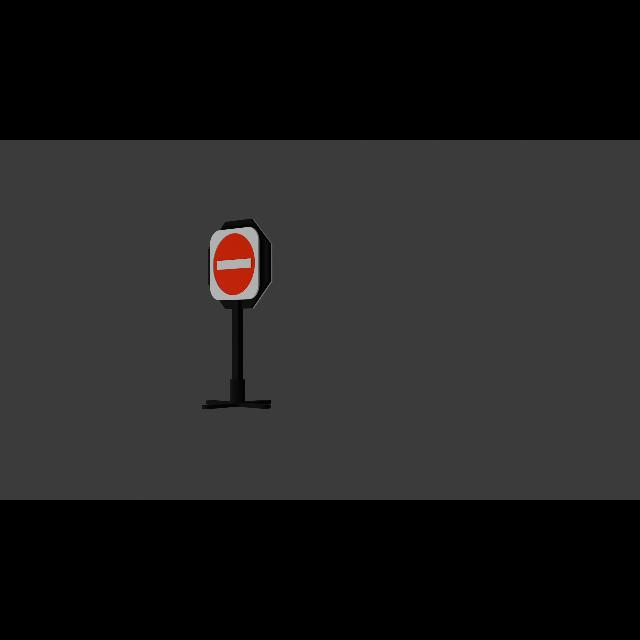sign_noentry: (213, 232, 257, 298)
